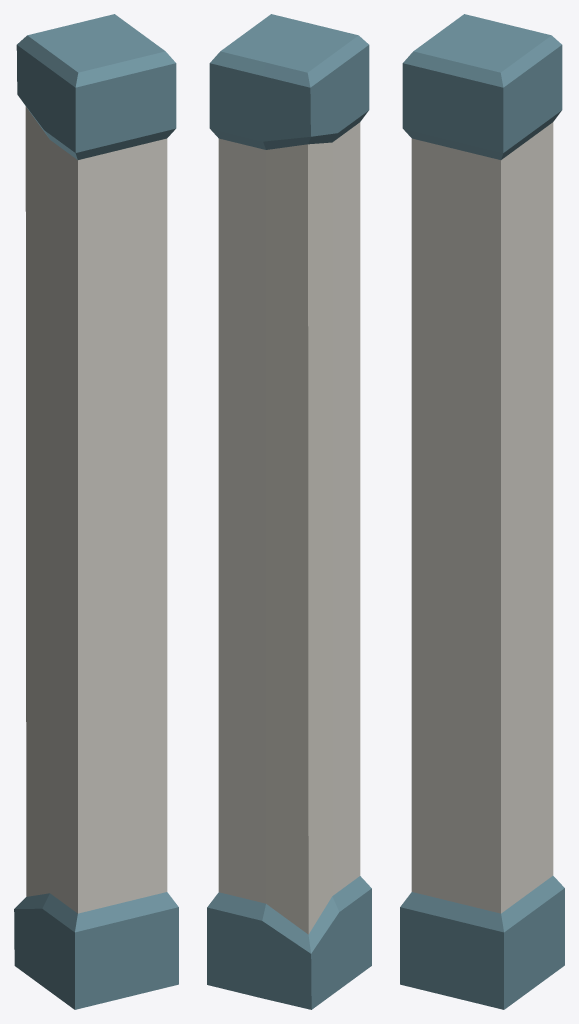
Rendered from g_o_BathromWallCorner270.fbx.
3 views of the same model, side by side, from view 1: azimuth 30°, elevation 25°; view 2: azimuth 150°, elevation 25°; view 3: azimuth 330°, elevation 25° (orthographic).
Visible parts, largest first — view 1: g_o_BathromWallCorner270; view 2: g_o_BathromWallCorner270; view 3: g_o_BathromWallCorner270.
Boxes of the visible parts, x1,y1,x2,y2 form: g_o_BathromWallCorner270: (14,14,178,1009); g_o_BathromWallCorner270: (207,14,371,1009); g_o_BathromWallCorner270: (400,14,564,1009).
Size of the model in its own units: 0.2198 by 1.88 by 0.2223.
